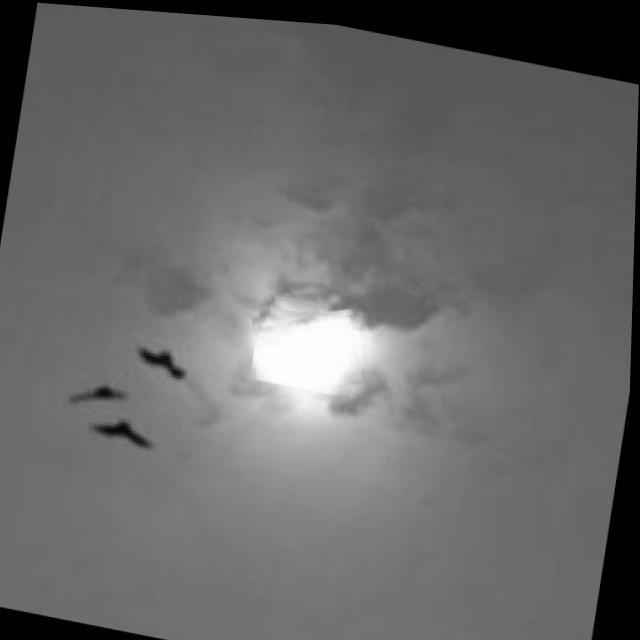sun: (255, 307, 355, 386)
